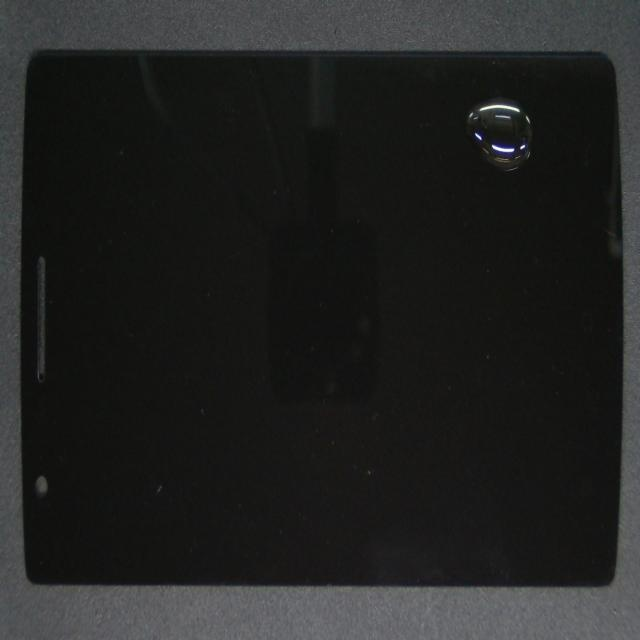oil: (278, 68, 640, 173)
